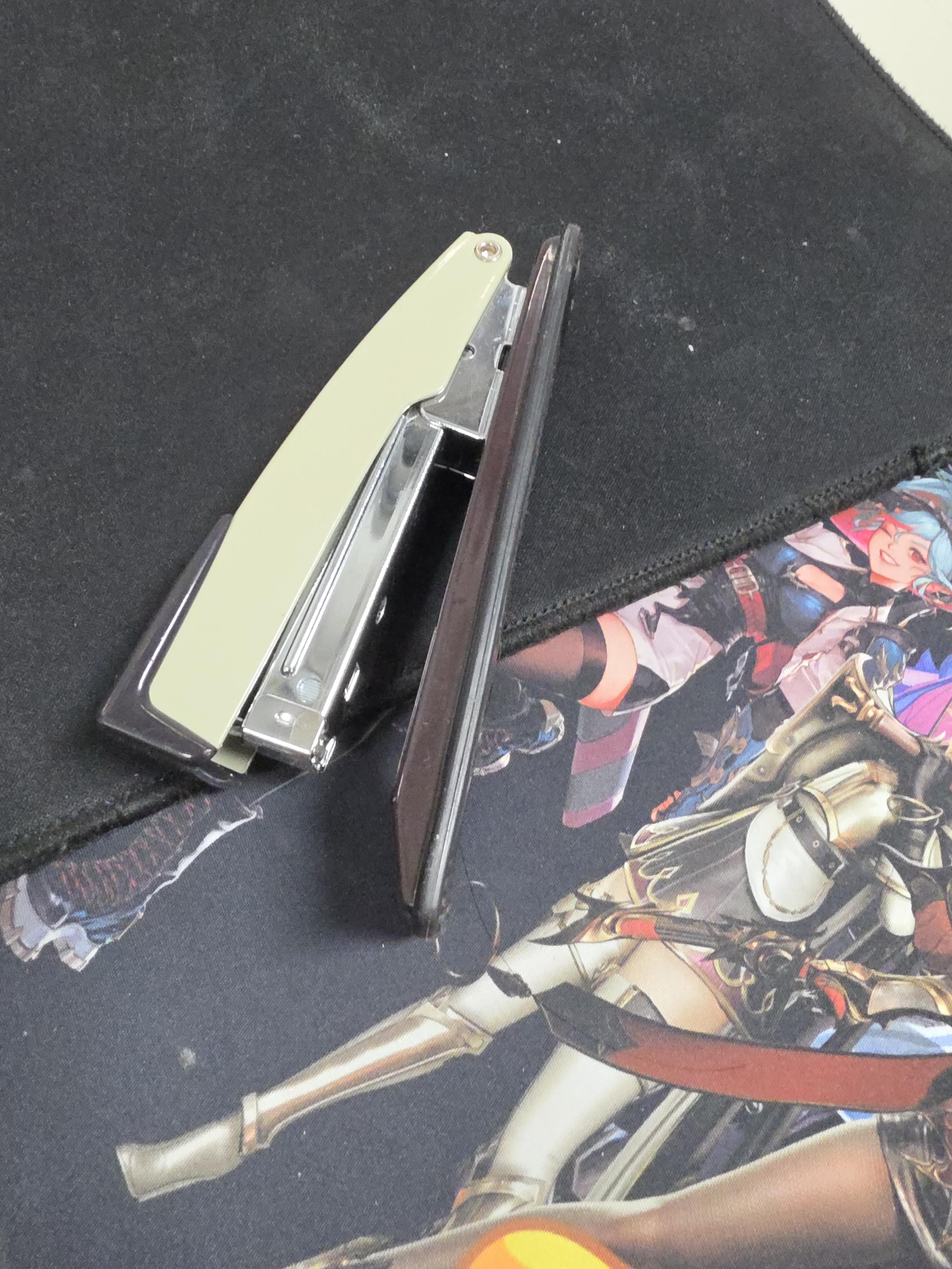stapler: (97, 221, 585, 941)
